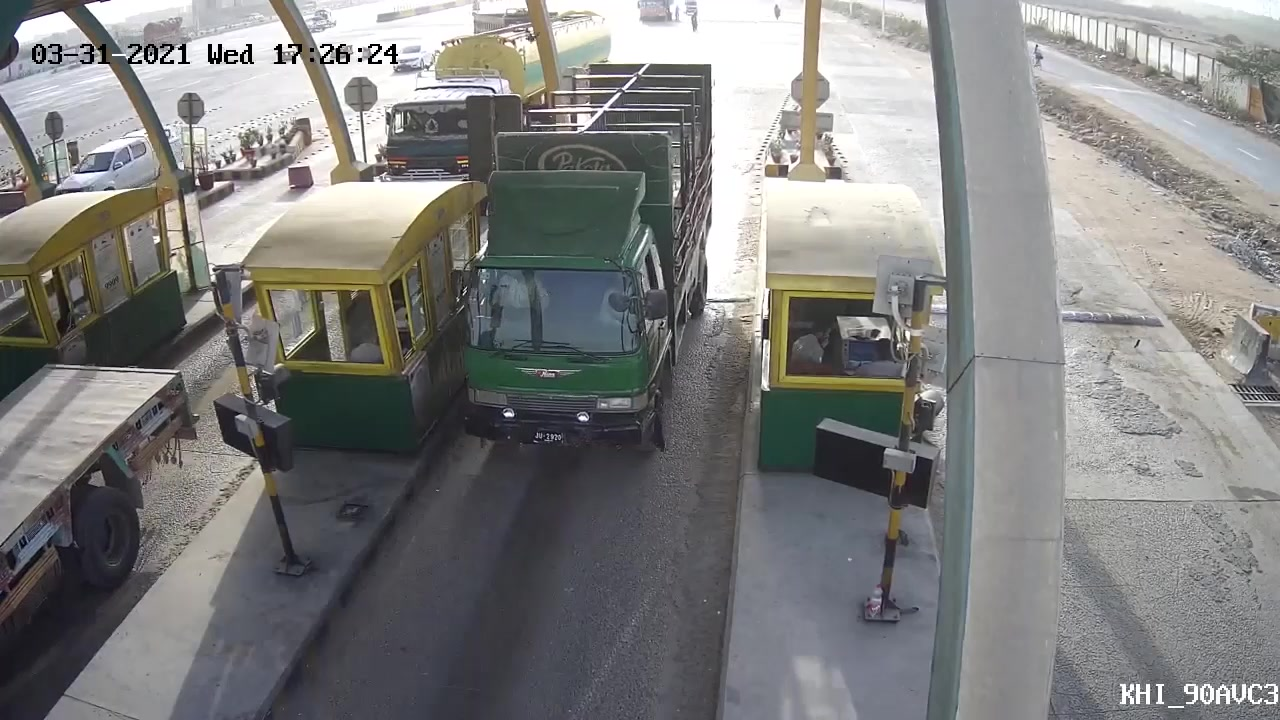F5: (456, 62, 713, 449)
